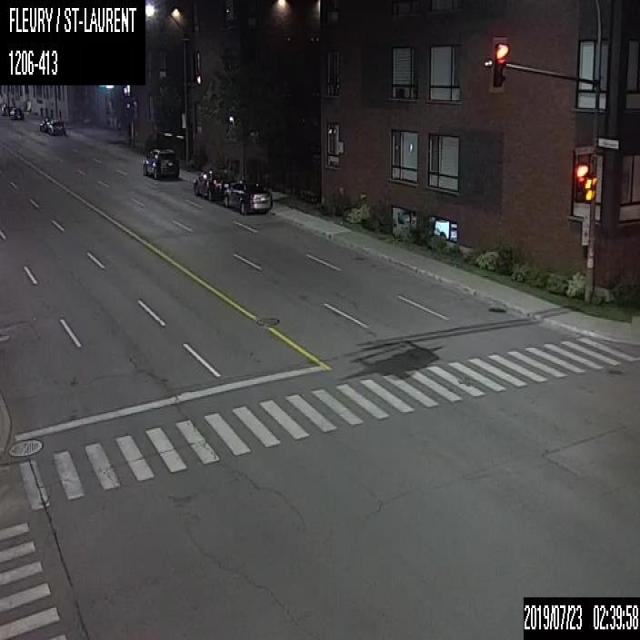vehicle: (223, 180, 276, 212), (141, 144, 179, 180), (192, 167, 231, 200), (46, 117, 66, 135), (38, 116, 52, 132), (9, 106, 22, 118), (0, 102, 11, 116)
